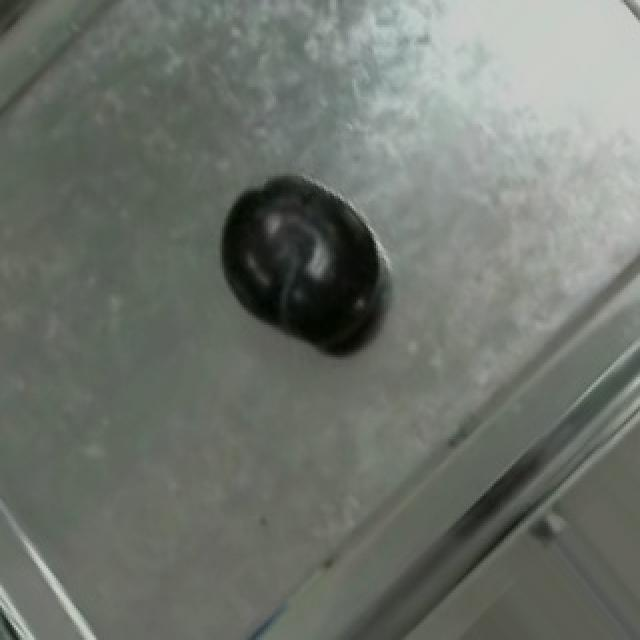Fruit: (206, 161, 406, 375)
